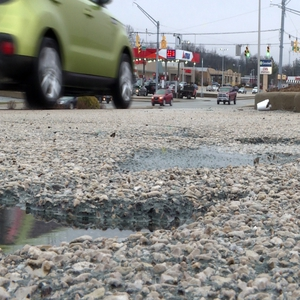pothole: (1, 183, 211, 261)
